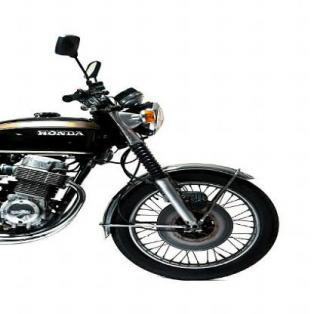Motocicleta: (4, 24, 281, 281)
